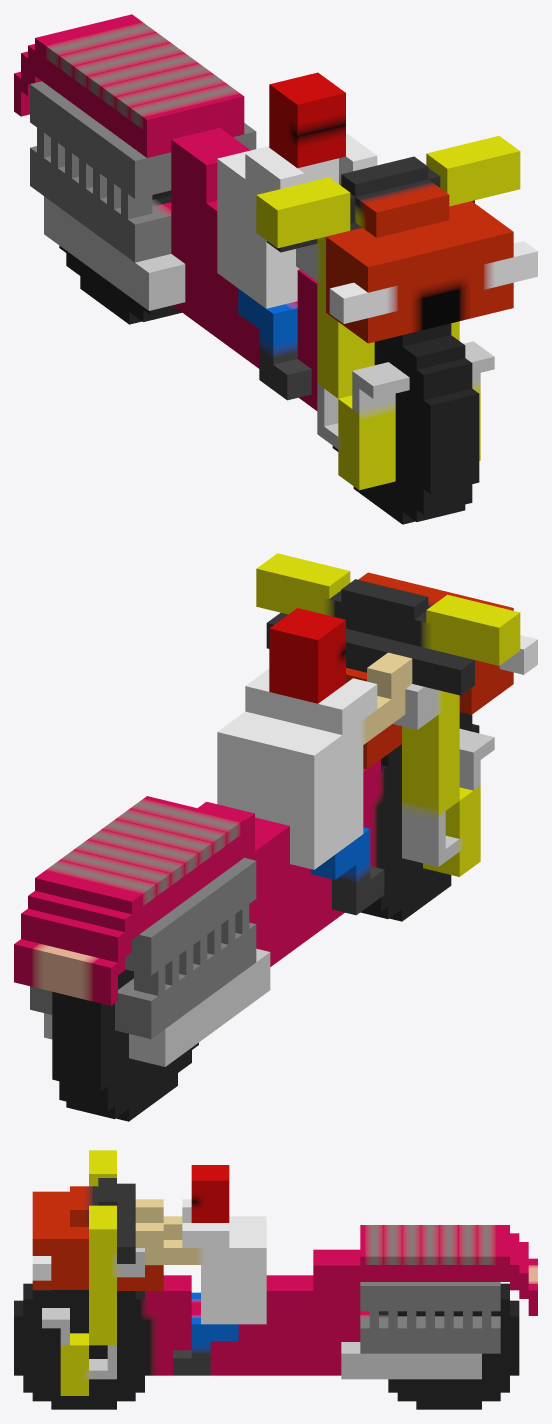
File: Bike_0.fbx
3 views of the same model, one above another, from view 1: azimuth 30°, elevation 25°; view 2: azimuth 150°, elevation 25°; view 3: azimuth 270°, elevation 25° (orthographic). The views are drawn at different scales.
Parts seen in each view (by area): view 1: Bike_0; view 2: Bike_0; view 3: Bike_0.
Boxes of the visible parts, bbox=[...] form: Bike_0: bbox=[14, 14, 537, 524]; Bike_0: bbox=[14, 553, 537, 1121]; Bike_0: bbox=[14, 1150, 537, 1409].
Size of the model in its own units: 20 by 27 by 56.
Materials: 1 (1 with a texture image).
